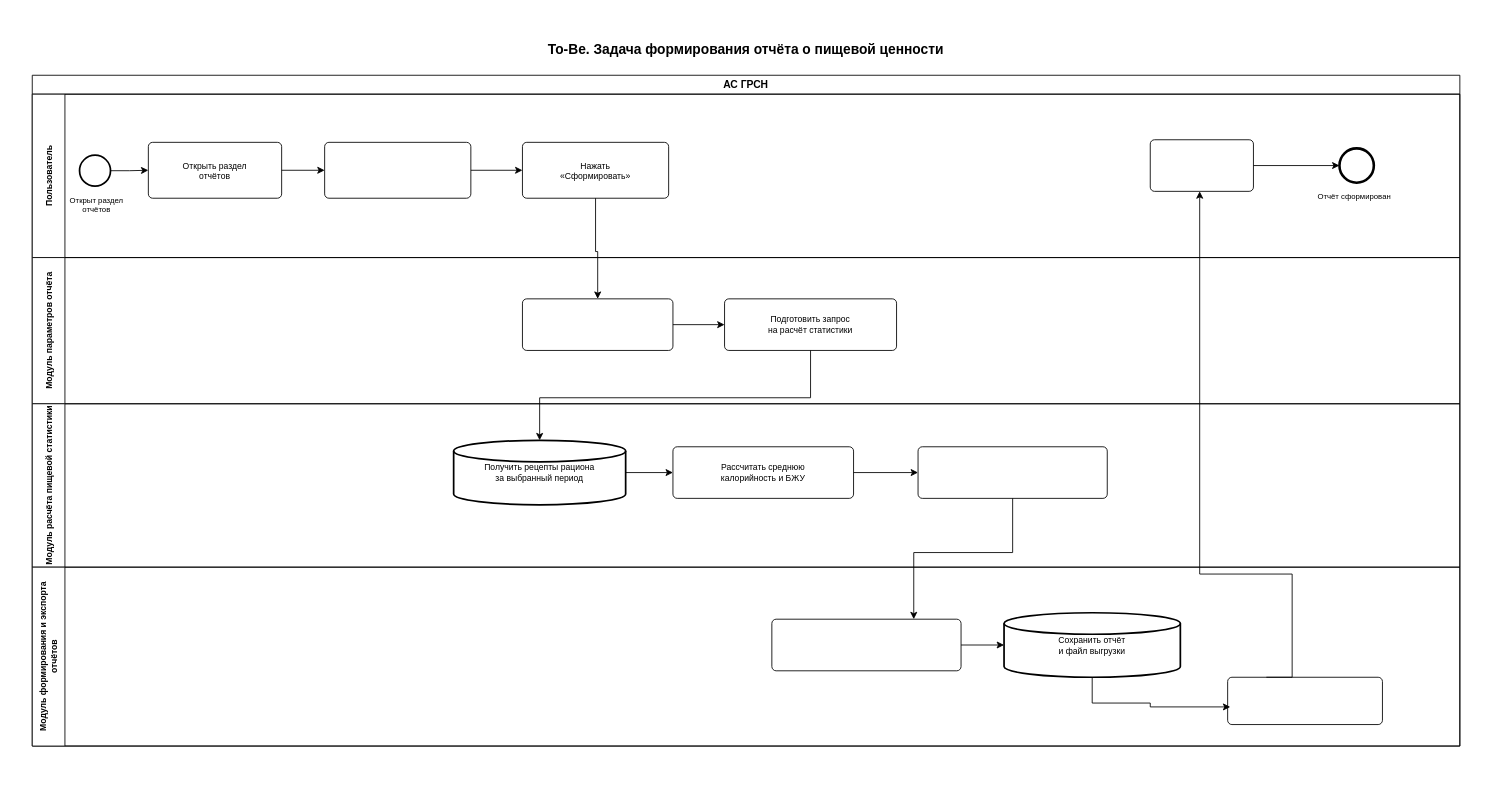
Image size: 1491x803. Some labels were removed from this diagram. The box of each missing label's shape, as (x1, y1, x2, y2) in pixels:
Выбрать период, формат и цель: (324, 141, 471, 198)
Подготовить файл для скачивания: (1227, 676, 1382, 725)
Показатели по дням и баланс БЖУ по Атуотеру: (917, 446, 1107, 498)
Принять параметры отчёта: (522, 298, 673, 350)
Скачать отчёт: (1149, 139, 1253, 191)
Сформировать отчёт PDF, XLSX или CSV: (771, 618, 961, 671)
